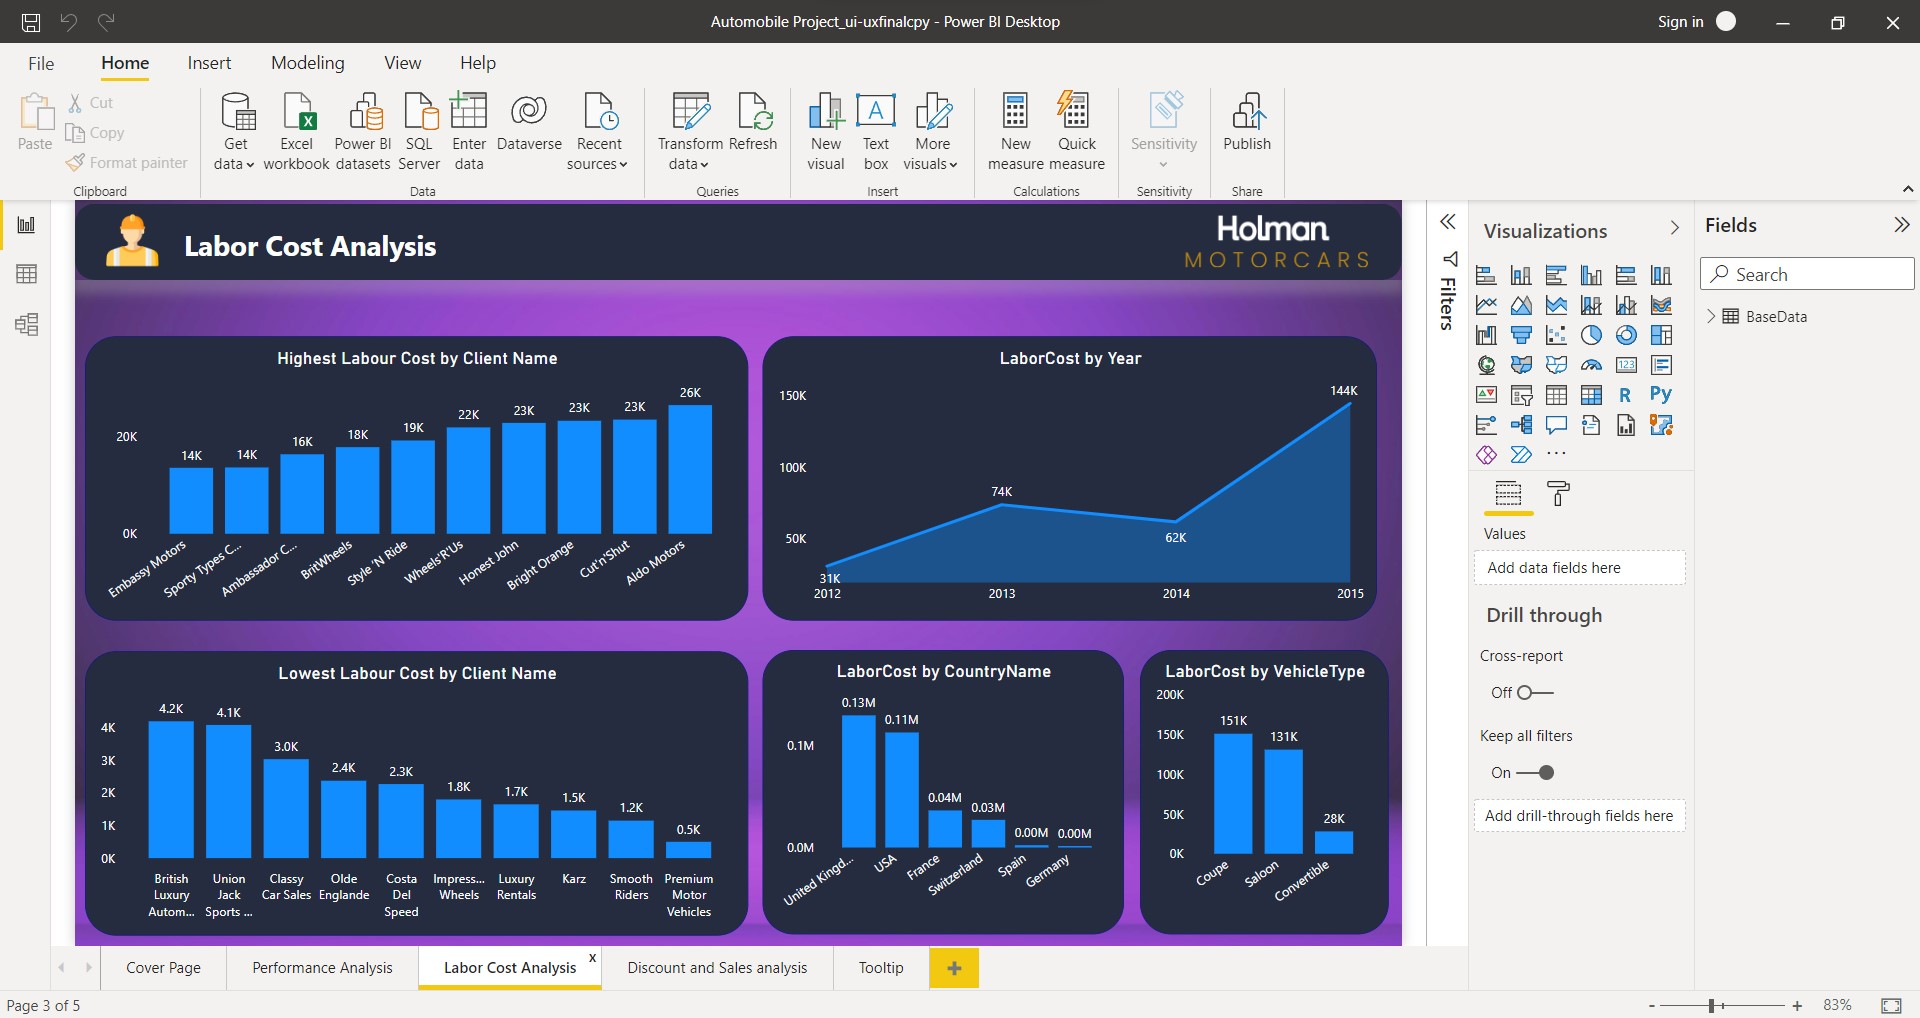

The dashboard page shown, as its layout file describes it:
{"tool":"powerbi","page":{"name":"Labor Cost Analysis","canvas":[1280,720],"ordinal":2},"visuals":[{"type":"clusteredColumnChart","title":"Lowest Labour Cost by Client Name","fields":{"Category":["BaseData.ClientName"],"Y":["BaseData.LaborCost"]},"box":[10,435.7,640,274.3],"z":0},{"type":"shape","box":[0,3.8,1280,73.8],"z":1000},{"type":"areaChart","fields":{"Category":["BaseData.InvoiceDate.Variation.Date Hierarchy.Year"],"Y":["BaseData.LaborCost"]},"box":[662.9,131.4,592.9,274.3],"z":2000},{"type":"clusteredColumnChart","title":"Highest Labour Cost by Client Name","fields":{"Category":["BaseData.ClientName"],"Y":["BaseData.LaborCost"]},"box":[10,131.4,640,274.3],"z":3000},{"type":"columnChart","fields":{"Y":["BaseData.LaborCost"],"Category":["BaseData.CountryName"]},"box":[662.9,434.3,348.6,274.3],"z":4000},{"type":"image","box":[25.7,4.3,60,68.6],"z":5000},{"type":"textbox","box":[100,20,300,70],"z":6000},{"type":"columnChart","fields":{"Y":["BaseData.LaborCost"],"Category":["BaseData.VehicleType"]},"box":[1027.1,434.3,240,274.3],"z":7000},{"type":"image","box":[1064.3,10,191.4,60],"z":8000}]}

Visuals, with their boxes on the page's 1280x720 design canvas (x1, y1, x2, y2). These are canvas units, not pixel positions in the 1920x1018 screenshot, which may show the page scaled, cropped or inside an application window:
"Lowest Labour Cost by Client Name" clusteredColumnChart: x1=10, y1=436, x2=650, y2=710
shape: x1=0, y1=4, x2=1280, y2=78
areaChart - BaseData.InvoiceDate.Variation.Date Hierarchy.Year x BaseData.LaborCost: x1=663, y1=131, x2=1256, y2=406
"Highest Labour Cost by Client Name" clusteredColumnChart: x1=10, y1=131, x2=650, y2=406
columnChart - BaseData.LaborCost x BaseData.CountryName: x1=663, y1=434, x2=1012, y2=709
image: x1=26, y1=4, x2=86, y2=73
textbox: x1=100, y1=20, x2=400, y2=90
columnChart - BaseData.LaborCost x BaseData.VehicleType: x1=1027, y1=434, x2=1267, y2=709
image: x1=1064, y1=10, x2=1256, y2=70
